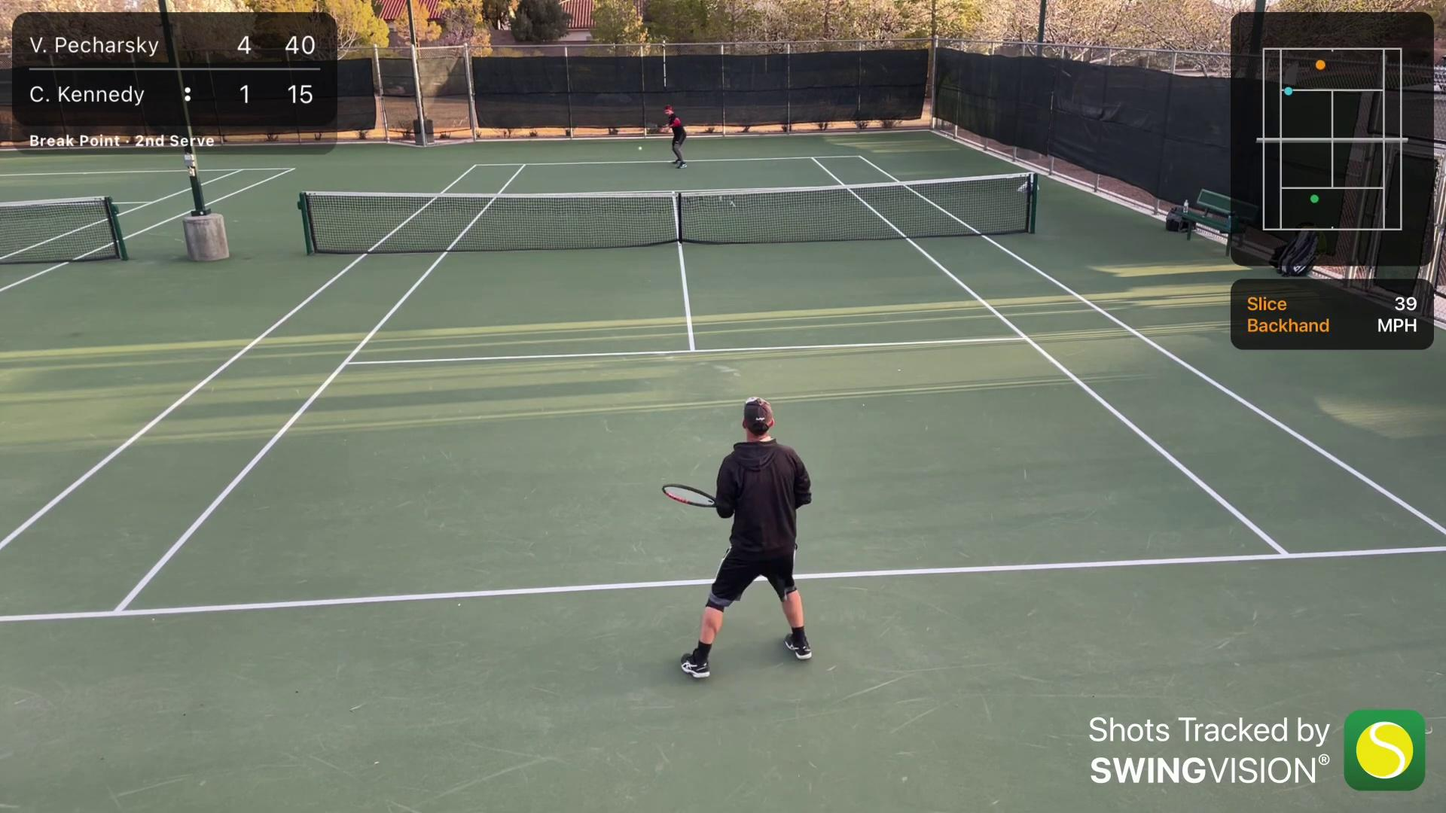ball: (637, 146, 642, 151)
